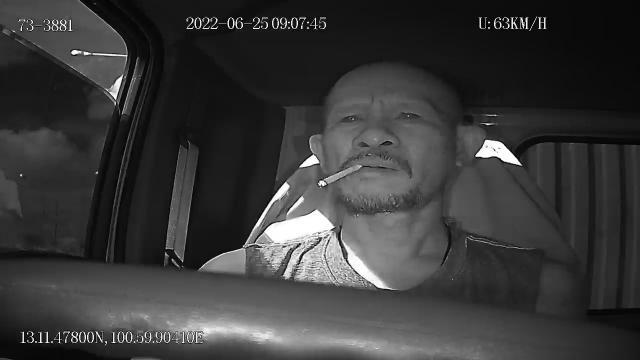SafeDriving: (332, 103, 372, 132), (390, 102, 430, 130)
Smoking: (318, 164, 362, 187)
